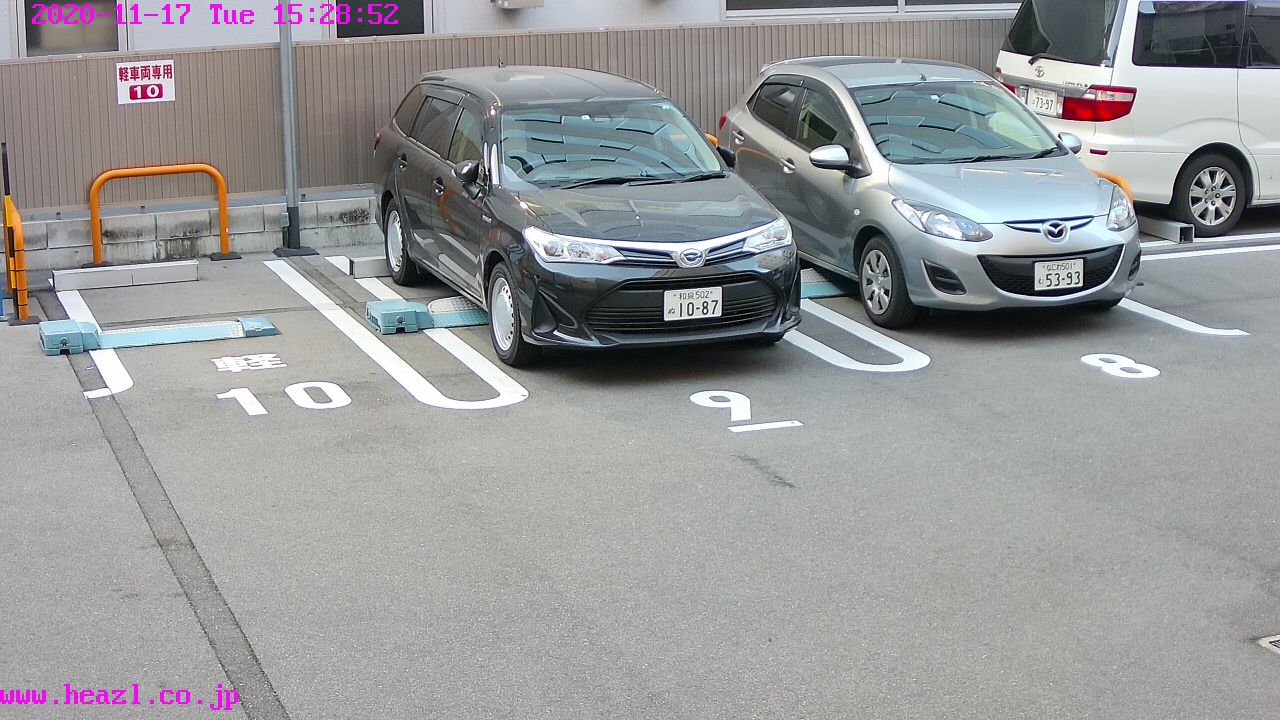number_plate: (662, 289, 721, 316), (1035, 261, 1085, 287), (1026, 85, 1057, 114)
